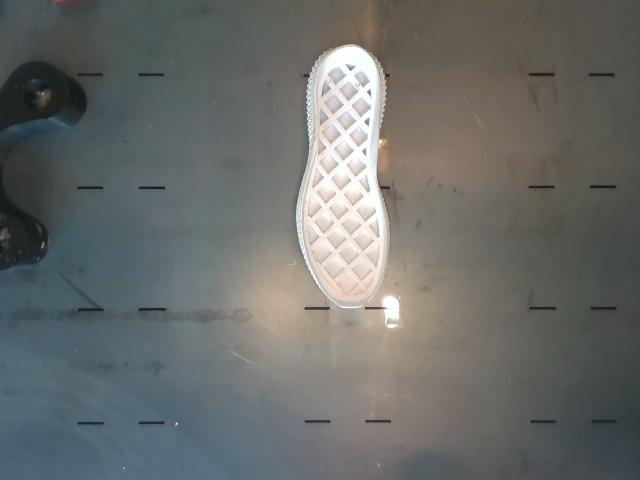shoes: (301, 45, 387, 307)
